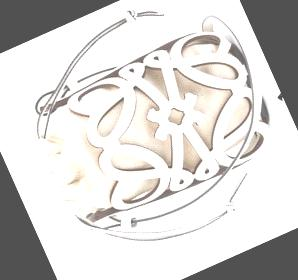LOEWE: (53, 8, 296, 222)
